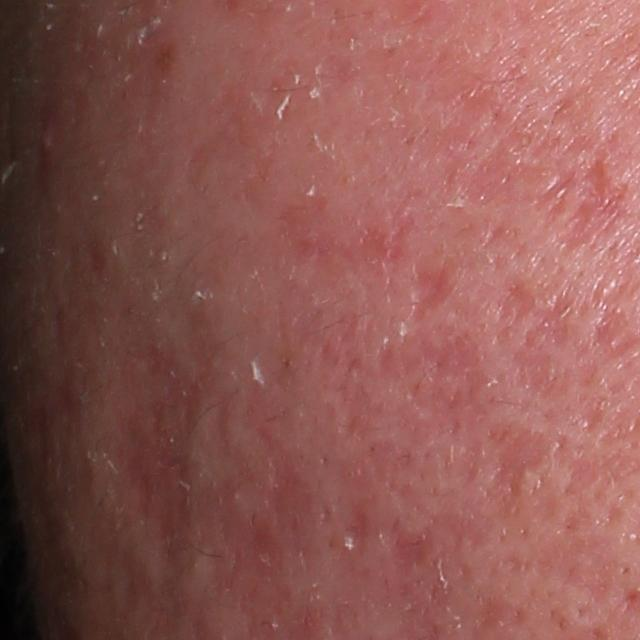atrophic_scar: (115, 329, 200, 575), (528, 133, 629, 257), (505, 508, 624, 604), (364, 335, 490, 416), (482, 421, 568, 509), (399, 254, 467, 339), (590, 264, 638, 354), (509, 348, 575, 410), (490, 278, 538, 354), (520, 284, 573, 352), (385, 520, 436, 572), (335, 496, 371, 564)
papule: (36, 120, 60, 165)
